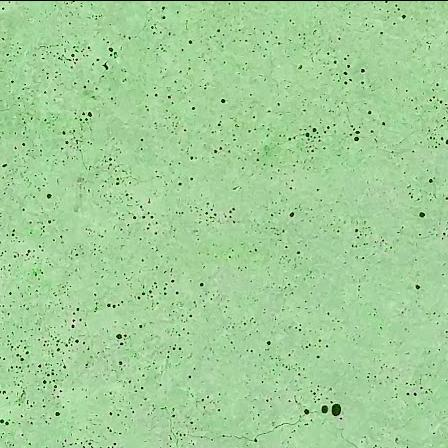crack: (181, 407, 360, 448)
